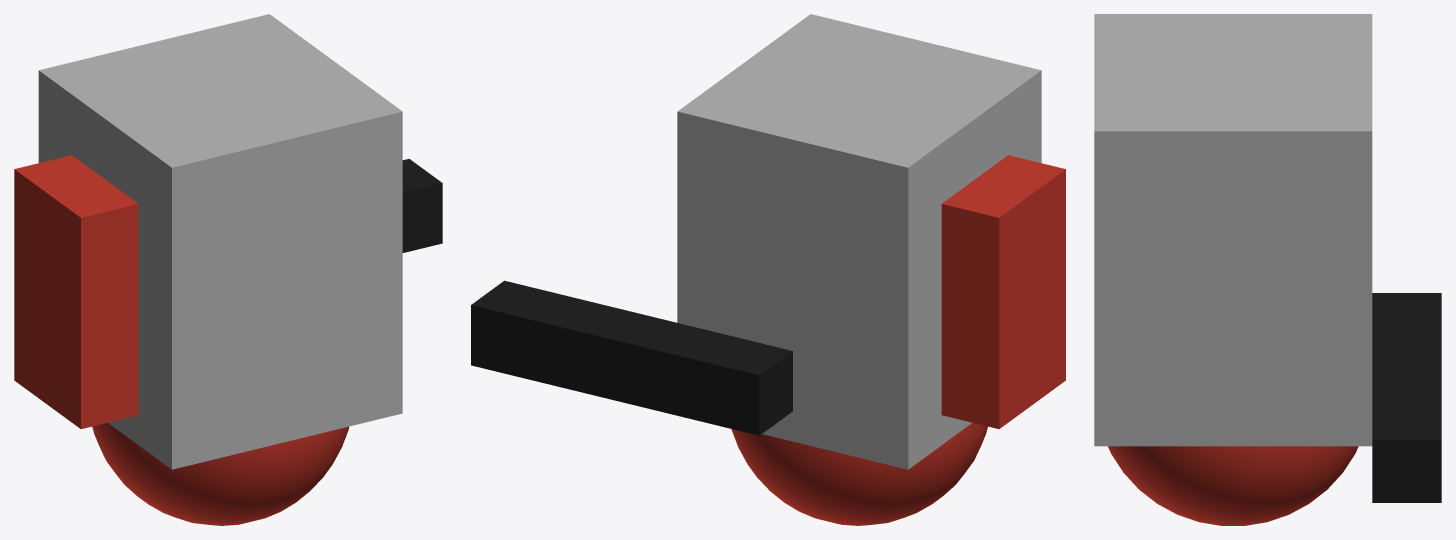
File: vanguardMarine.obj
The picture shows the model from 3 angles, left to right: view 1: azimuth 30°, elevation 25°; view 2: azimuth 150°, elevation 25°; view 3: azimuth 270°, elevation 25°; orthographic projection. The views are drawn at different scales.
Visible parts, largest first — view 1: Body5, Body3, Body2, Body1; view 2: Body5, Body3, Body1, Body2; view 3: Body5, Body1, Body2.
Part boxes in pixels (x1=…): Body5: x1=38, y1=14, x2=402, y2=469; Body3: x1=14, y1=155, x2=138, y2=428; Body2: x1=92, y1=422, x2=349, y2=525; Body1: x1=402, y1=159, x2=442, y2=252; Body5: x1=677, y1=14, x2=1041, y2=469; Body3: x1=941, y1=155, x2=1065, y2=428; Body1: x1=471, y1=280, x2=792, y2=435; Body2: x1=731, y1=422, x2=987, y2=525; Body5: x1=1094, y1=14, x2=1372, y2=446; Body1: x1=1372, y1=293, x2=1441, y2=502; Body2: x1=1108, y1=446, x2=1358, y2=525.
Size of the model in its own units: 8 by 6.99 by 5.
